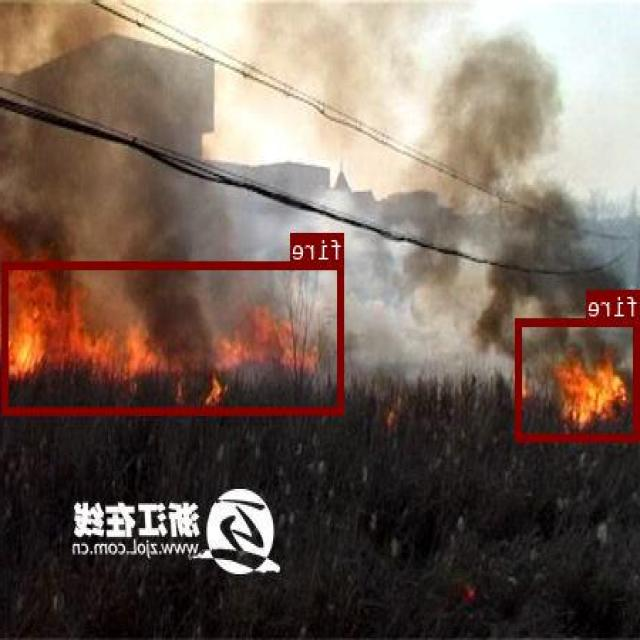fire: (3, 260, 344, 413), (518, 317, 640, 439)
